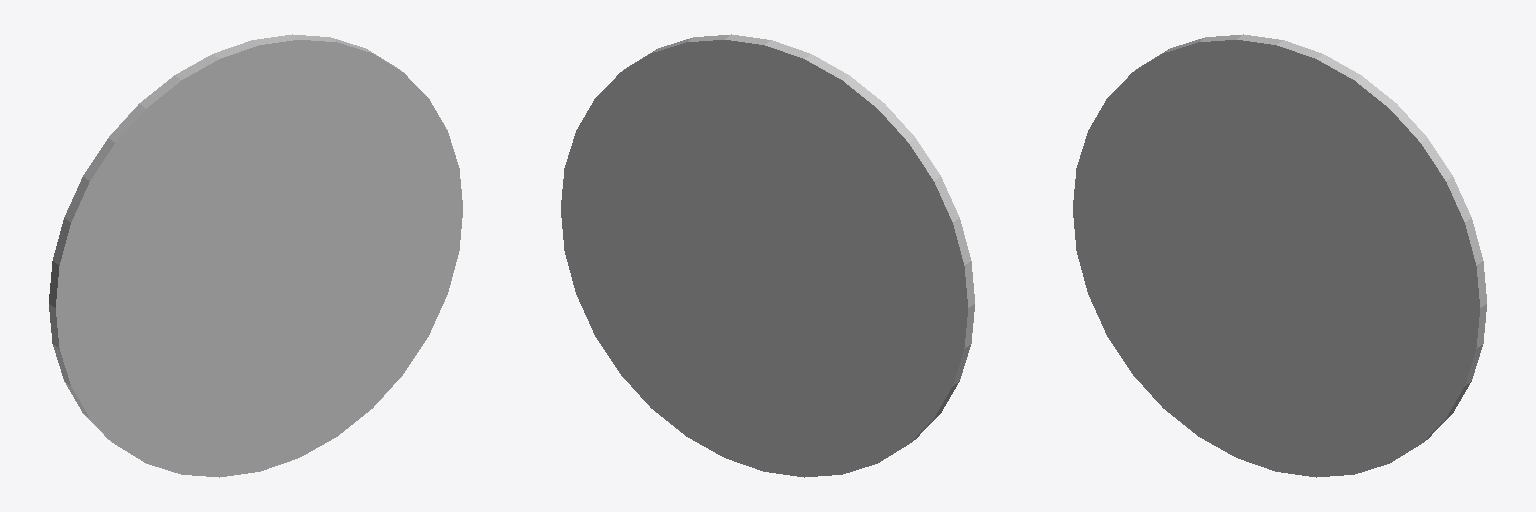
Rendered from Door_Ausgang.obj.
3 views of the same model, side by side, from view 1: azimuth 30°, elevation 25°; view 2: azimuth 150°, elevation 25°; view 3: azimuth 330°, elevation 25° (orthographic).
Visible parts, largest first — view 1: Door_Ausgang1; view 2: Door_Ausgang1; view 3: Door_Ausgang1.
Part boxes in pixels (bbox=[...]): Door_Ausgang1: bbox=[49, 34, 462, 477]; Door_Ausgang1: bbox=[561, 34, 974, 477]; Door_Ausgang1: bbox=[1073, 34, 1486, 477].
Bounding box in the file's own units: 83.53 × 83.53 × 2.49.